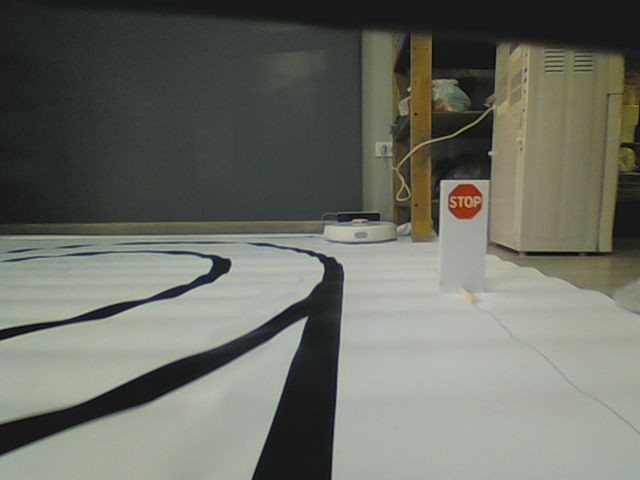Stop: (446, 183, 483, 221)
